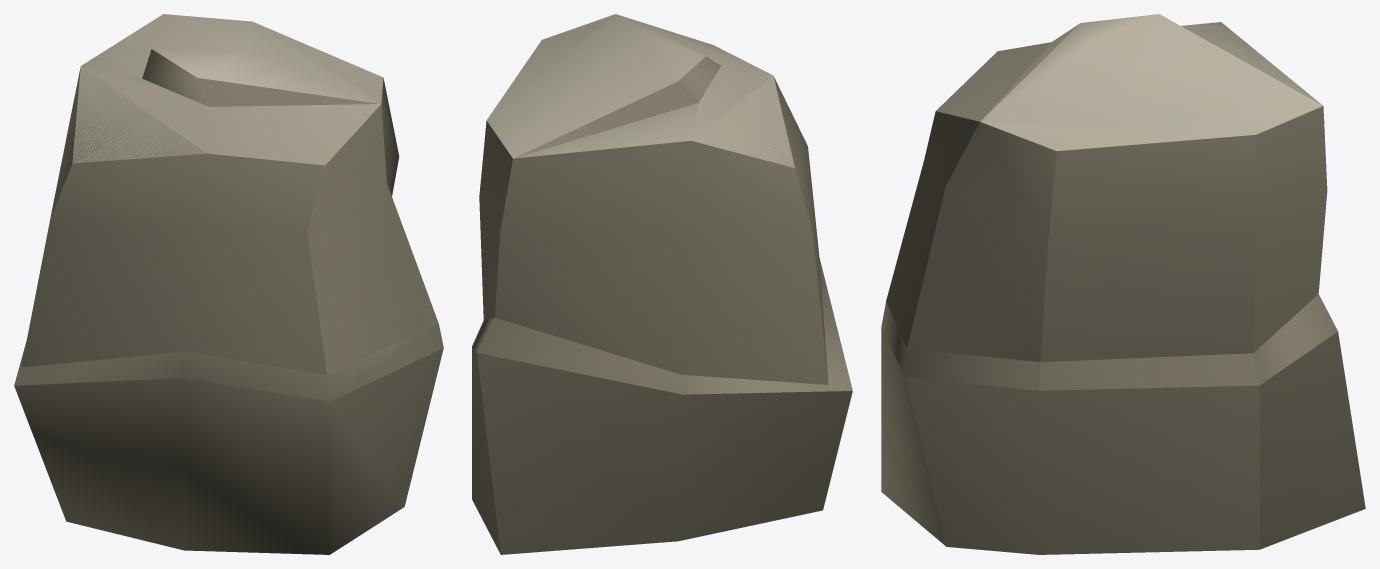
File: mine_stone_01.fbx
The picture shows the model from 3 angles, left to right: view 1: azimuth 30°, elevation 25°; view 2: azimuth 150°, elevation 25°; view 3: azimuth 270°, elevation 25°; orthographic projection. The views are drawn at different scales.
Visible parts, largest first — view 1: mine_stone_01; view 2: mine_stone_01; view 3: mine_stone_01.
Boxes of the visible parts, x1,y1,x2,y2 form: mine_stone_01: (14,14,443,554); mine_stone_01: (472,14,852,554); mine_stone_01: (881,14,1365,554).
Bounding box in the file's own units: 478 × 556 × 532.
